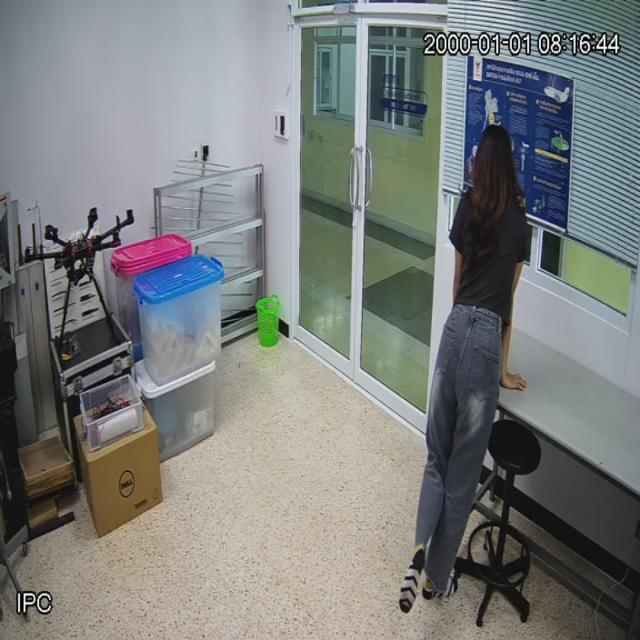normal: (398, 116, 539, 624)
